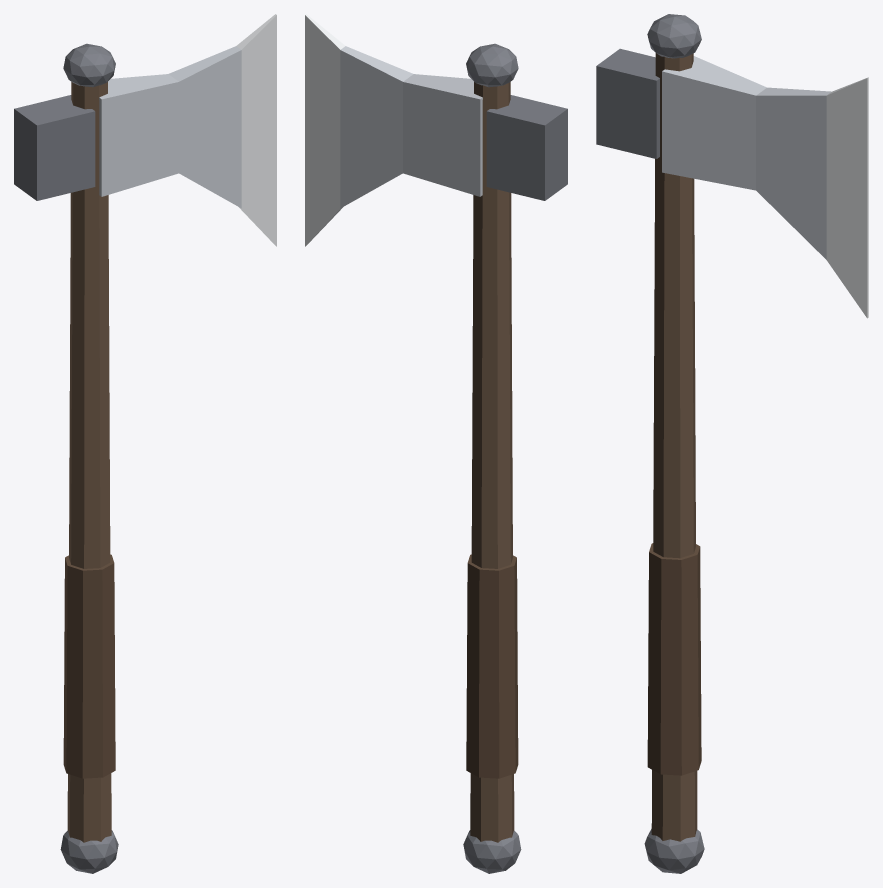
Rendered from hand_axe.glb.
The picture shows the model from 3 angles, left to right: view 1: azimuth 30°, elevation 25°; view 2: azimuth 150°, elevation 25°; view 3: azimuth 330°, elevation 25°; orthographic projection. The views are drawn at different scales.
Visible parts, largest first — view 1: hand_axe; view 2: hand_axe; view 3: hand_axe.
Boxes of the visible parts, left/top/right/bottom form: hand_axe: left=14, top=14, right=276, bottom=873; hand_axe: left=305, top=14, right=567, bottom=873; hand_axe: left=596, top=14, right=868, bottom=873.
Size of the model in its own units: 0.215 by 0.6758 by 0.044.
